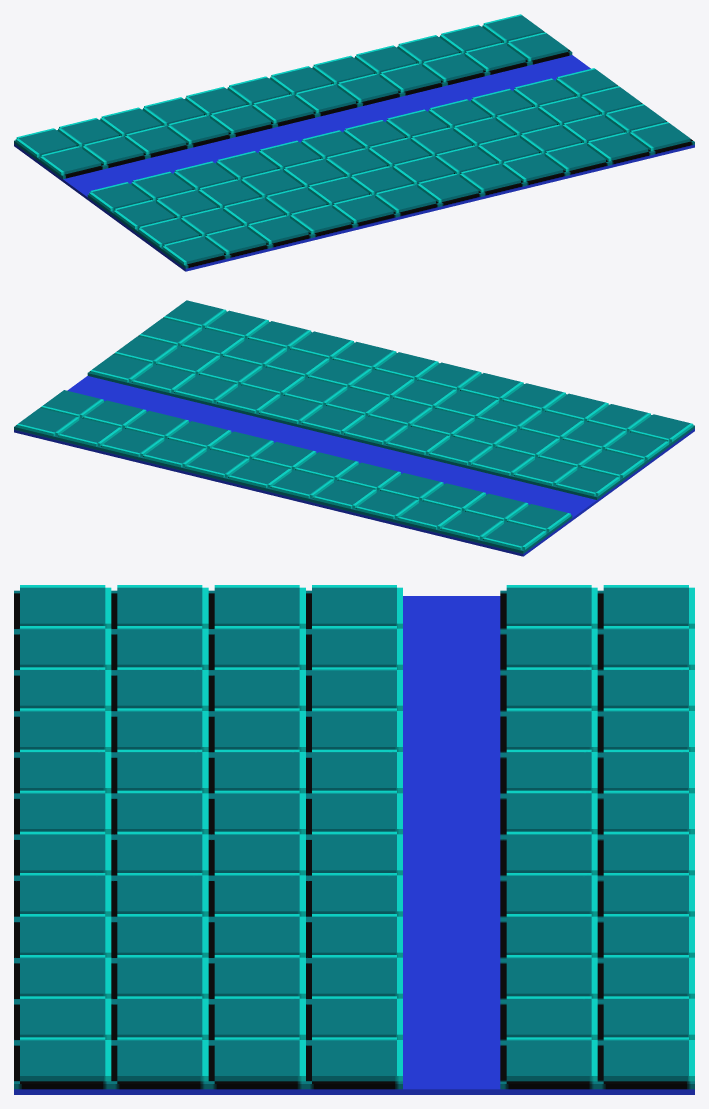
File: FloorWaterRiver.glb
3 views of the same model, one above another, from view 1: azimuth 30°, elevation 25°; view 2: azimuth 150°, elevation 25°; view 3: azimuth 270°, elevation 25° (orthographic). The views are drawn at different scales.
Visible parts, largest first — view 1: FloorWaterRiver; view 2: FloorWaterRiver; view 3: FloorWaterRiver.
Boxes of the visible parts, box(x1,y1,x2,y2) form: FloorWaterRiver: box(14, 14, 694, 271); FloorWaterRiver: box(14, 300, 694, 556); FloorWaterRiver: box(14, 585, 694, 1094).
Size of the model in its own units: 19.2 by 0.3 by 11.2.
1 material, 1 textured.
